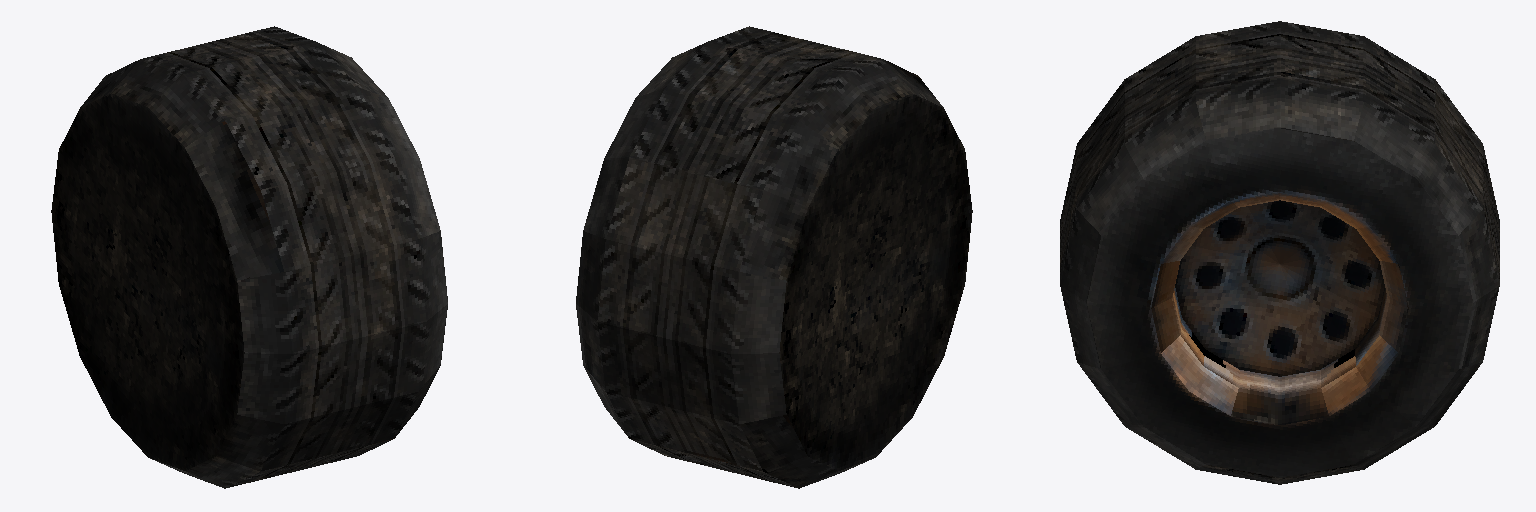
3 renders of one model, left to right at view 1: azimuth 30°, elevation 25°; view 2: azimuth 150°, elevation 25°; view 3: azimuth 270°, elevation 25°, orthographic.
Parts seen in each view (by area): view 1: RearRight; view 2: RearRight; view 3: RearRight.
Boxes of the visible parts, <box> form: RearRight: <box>51,26,447,488</box>; RearRight: <box>576,26,972,488</box>; RearRight: <box>1060,21,1499,484</box>.
Bounding box in the file's own units: 3.48 × 6.14 × 6.14.
Materials: 1 (1 with a texture image).